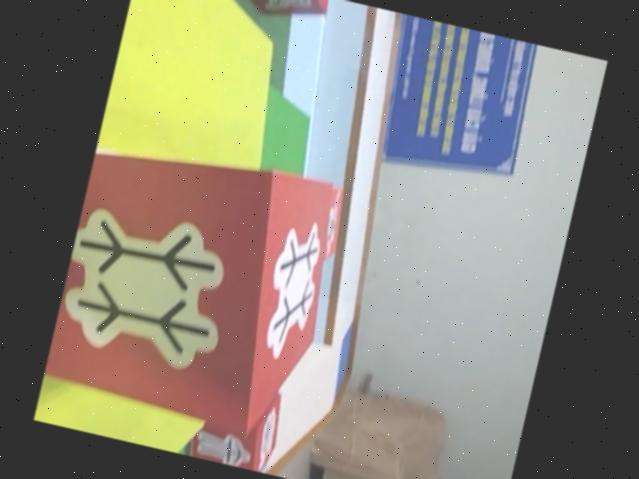R2 Fake: (184, 378, 286, 474)
R2 Real: (39, 130, 347, 447), (217, 0, 330, 27)
